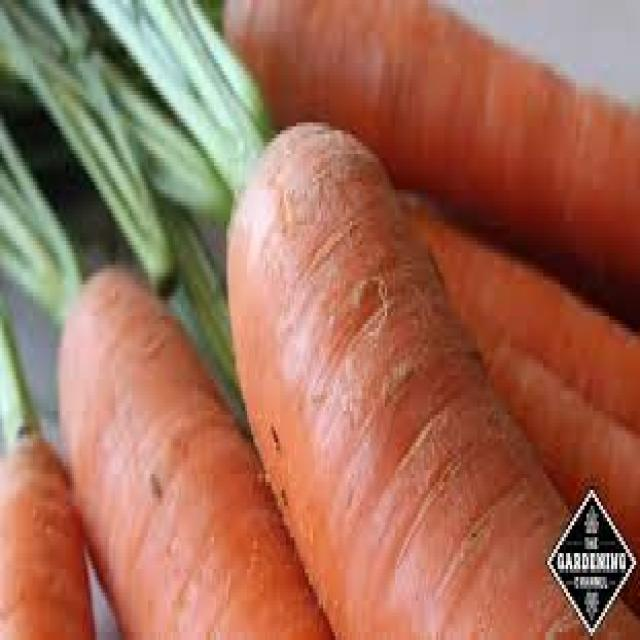Fresh_Carrot: (100, 0, 581, 640), (0, 132, 335, 640)
